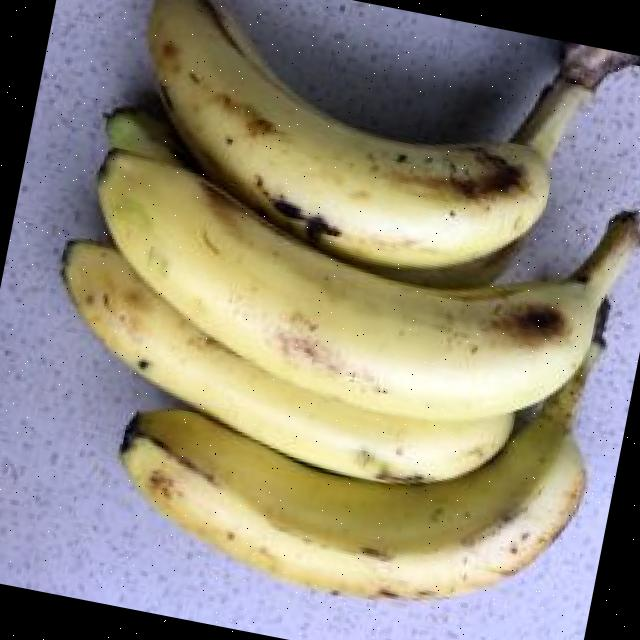banana: (100, 152, 637, 421), (121, 347, 598, 597), (64, 241, 512, 483), (149, 0, 549, 267)
